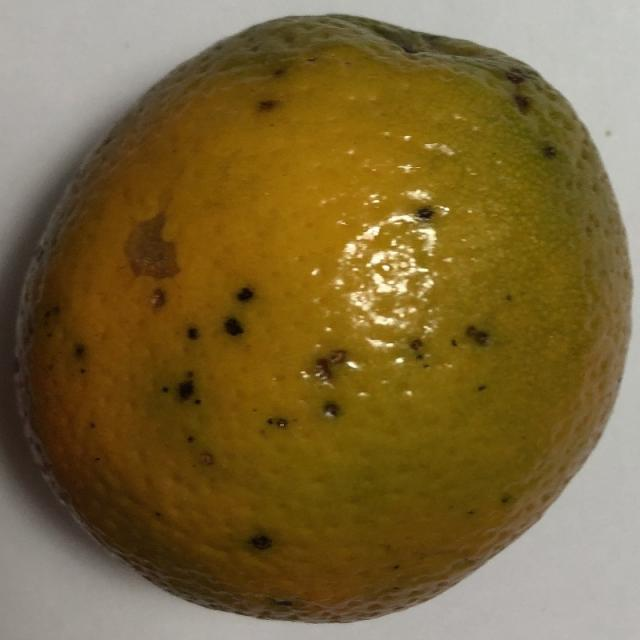blackspot: (2, 0, 636, 640)
